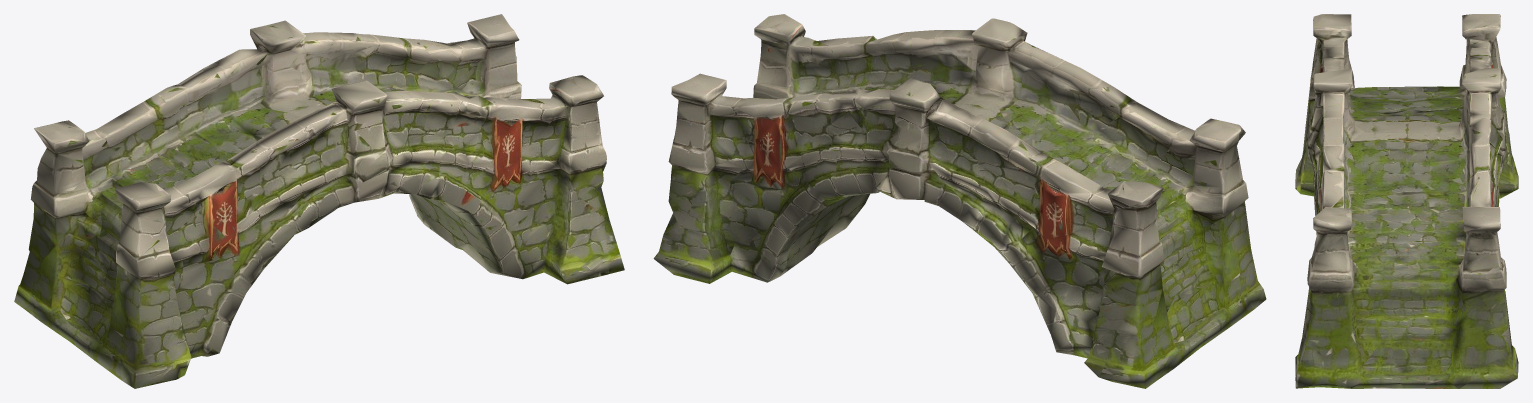
The model's file is stone-bridge.glb.
3 renders of one model, left to right at view 1: azimuth 30°, elevation 25°; view 2: azimuth 150°, elevation 25°; view 3: azimuth 270°, elevation 25°, orthographic. The views are drawn at different scales.
Bounding box in the file's own units: 1.91 × 0.8293 × 0.8233.
1 material, 1 textured.
